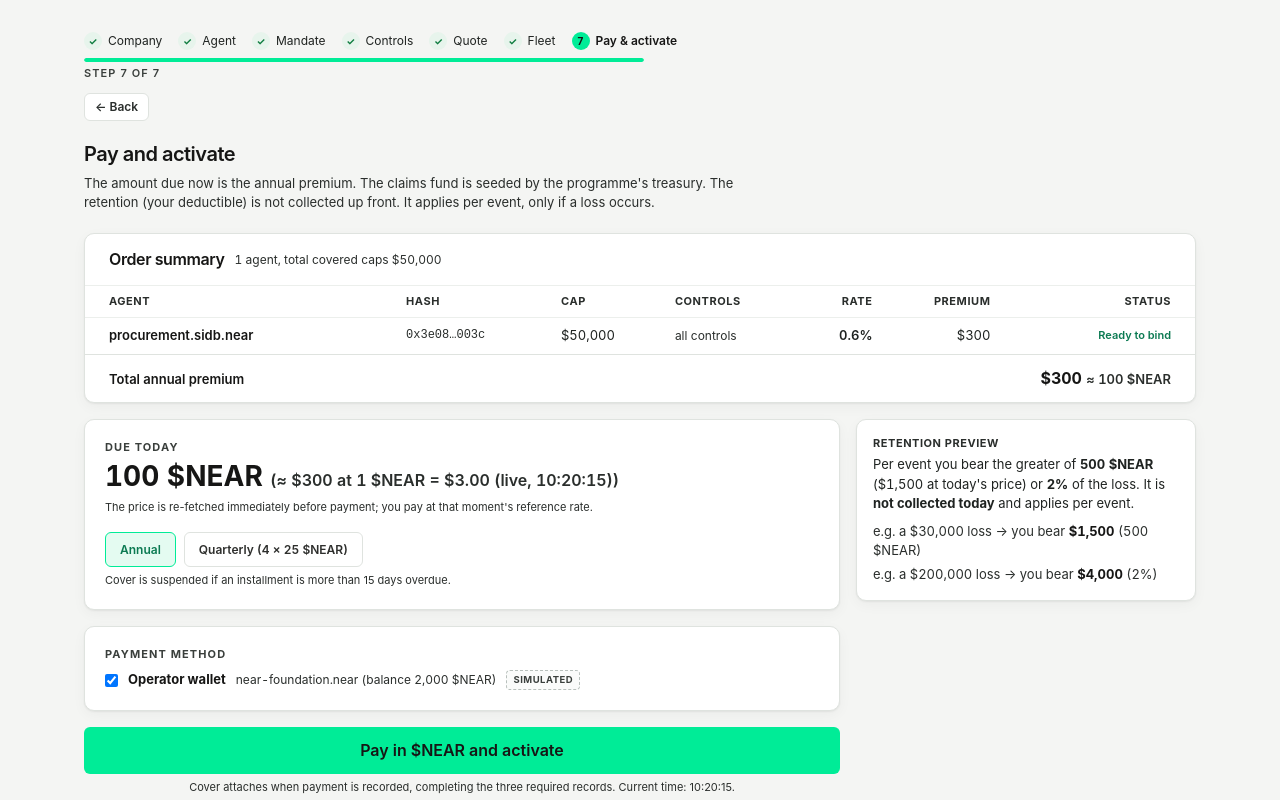
it: 7.8 — pay and activate (REQ-7.8.2, AC-7) › paying debits the demo wallet by the N amount at the payment rate
This screenshot has width=1280, height=800.
Click the button with test id "pay-button" at (462, 751), box [84,727,840,774]
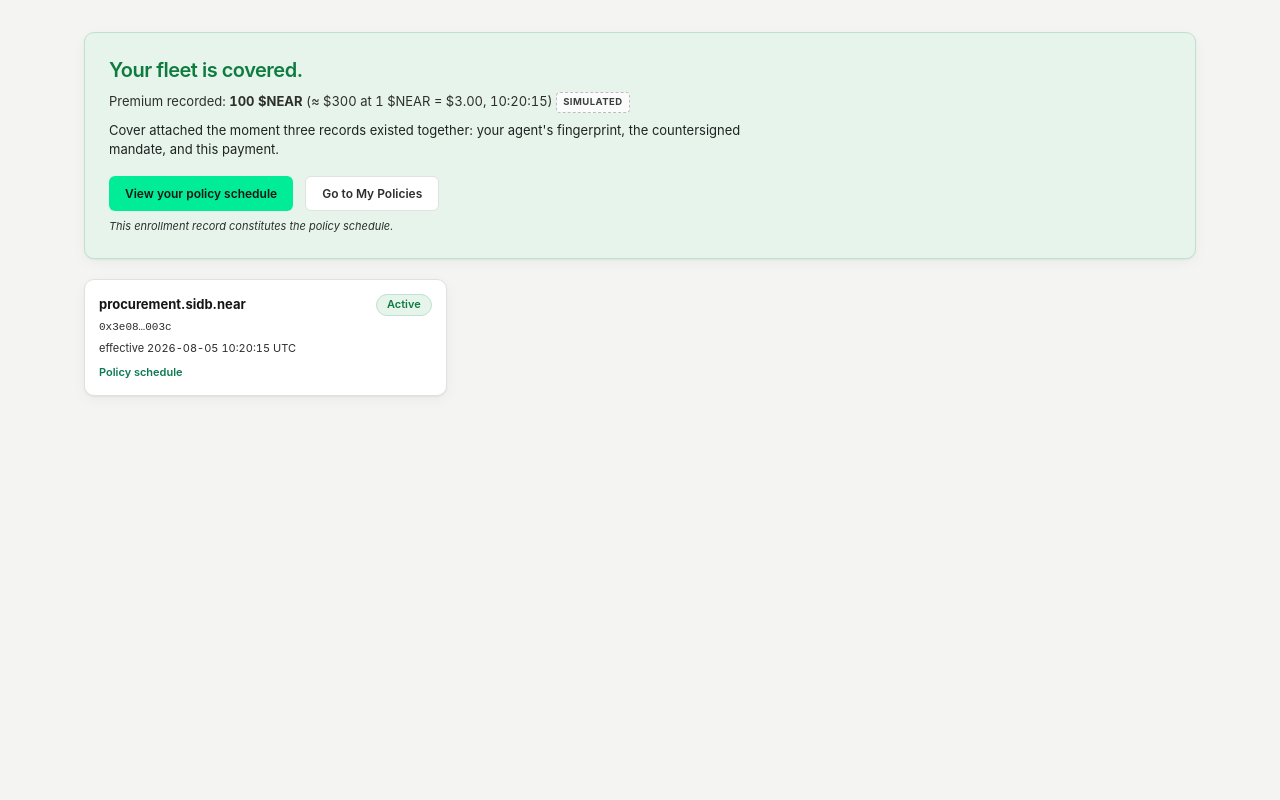
Expected: the element with test id "activation-ceremony" is shown, [84,32,1196,259]
